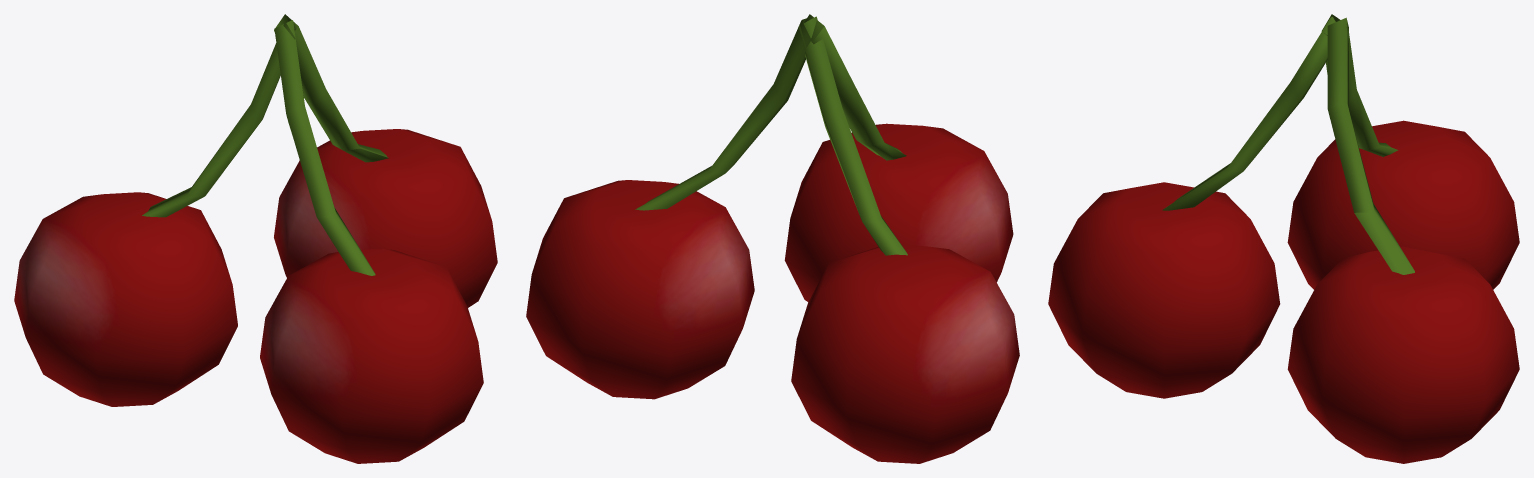
Rendered from Cherry.fbx.
3 renders of one model, left to right at view 1: azimuth 30°, elevation 25°; view 2: azimuth 150°, elevation 25°; view 3: azimuth 270°, elevation 25°, orthographic. The views are drawn at different scales.
Parts seen in each view (by area): view 1: Apple (4); view 2: Apple (4); view 3: Apple (4).
Part boxes in pixels (x1,y1,x2,y2): Apple (4): (14,14,497,463); Apple (4): (526,14,1019,463); Apple (4): (1048,14,1519,463).
Bounding box in the file's own units: 0.7463 × 0.5818 × 0.6615.
Materials: 1 (1 with a texture image).
